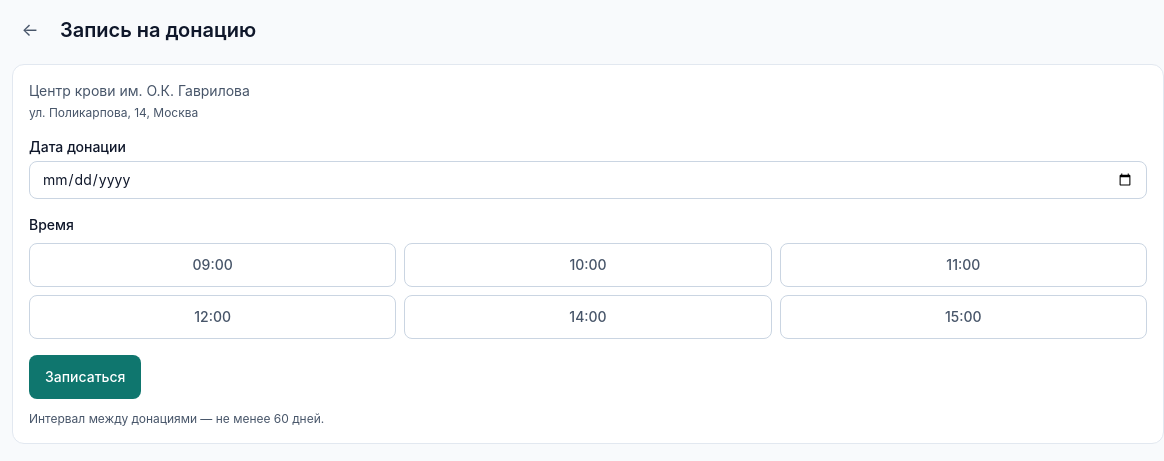
BookingPage — позитивный сценарий (FR-5.3) › создаёт запись со статусом «Ожидает подтверждения»
Type "2026-06-01" into the date field labelled "Дата донации" at (588, 180), box [29,161,1147,199]
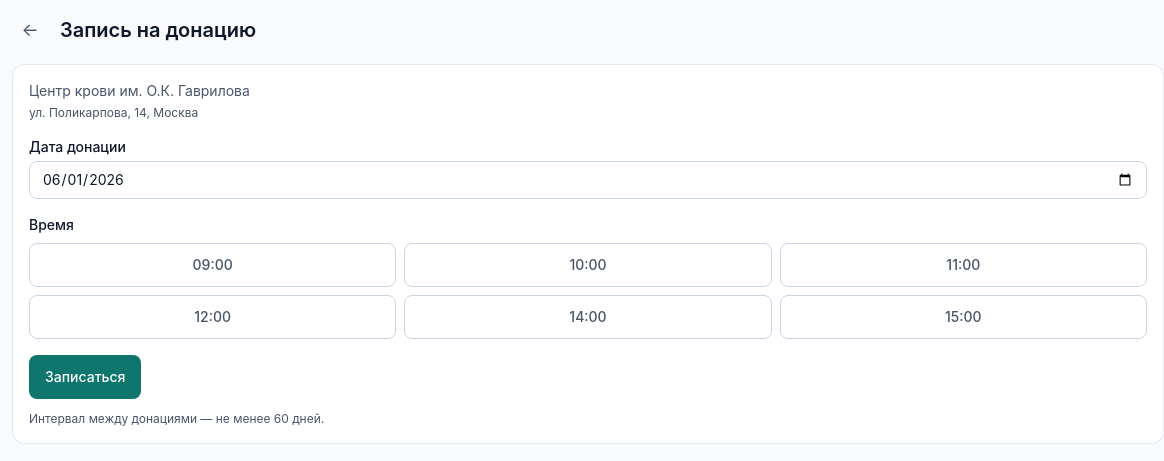
Click the button "10:00" at (588, 265), box [404,243,772,287]
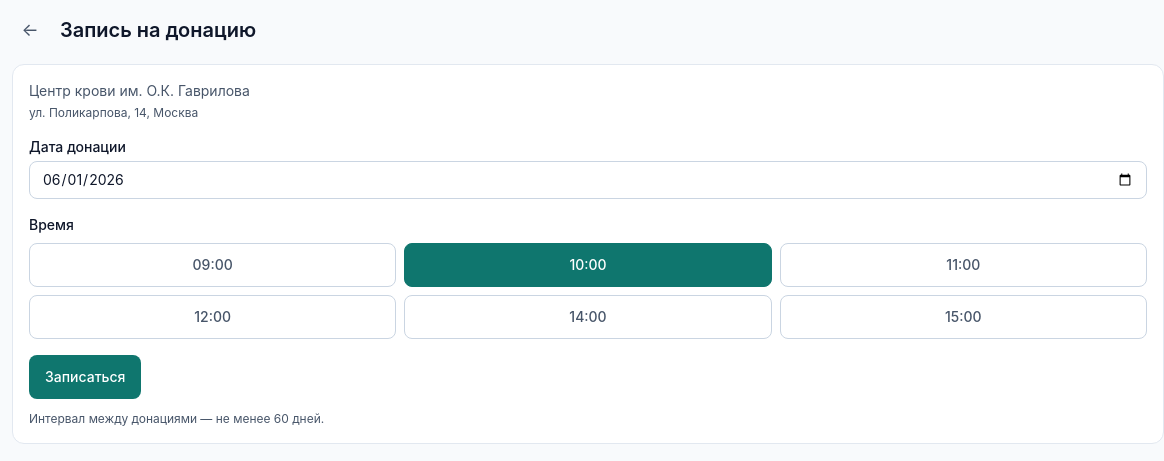
Click the button "Записаться" at (85, 377), box [29,355,142,399]
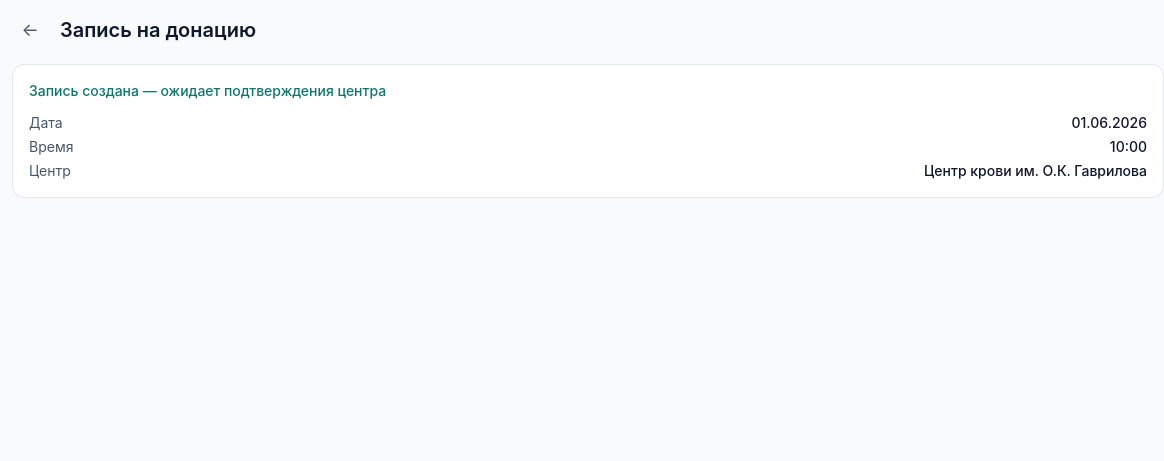
Result: the text "Запись создана — ожидает подтверждения центра" is shown at [29,82,386,99]
